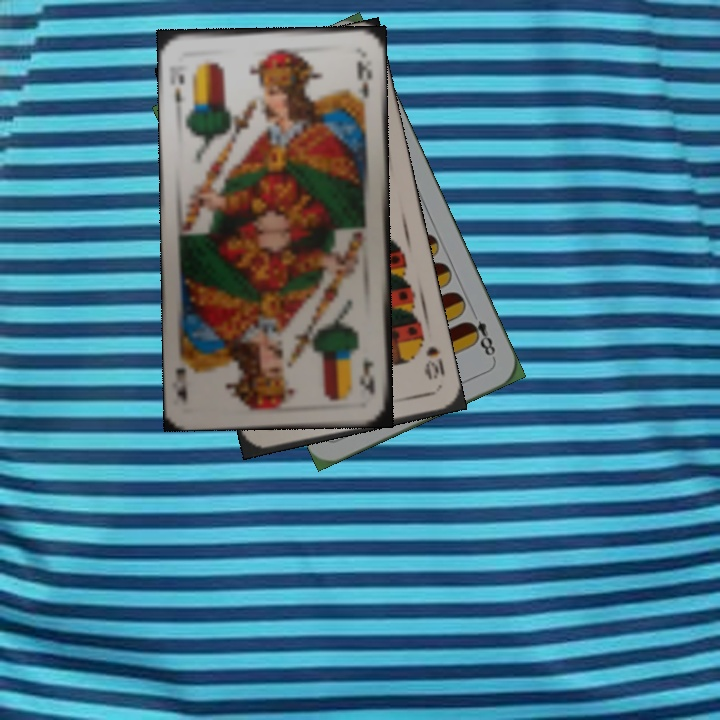E8: (462, 306, 498, 362)
EK: (356, 353, 376, 398), (170, 70, 188, 114)
S10: (421, 342, 448, 383)
